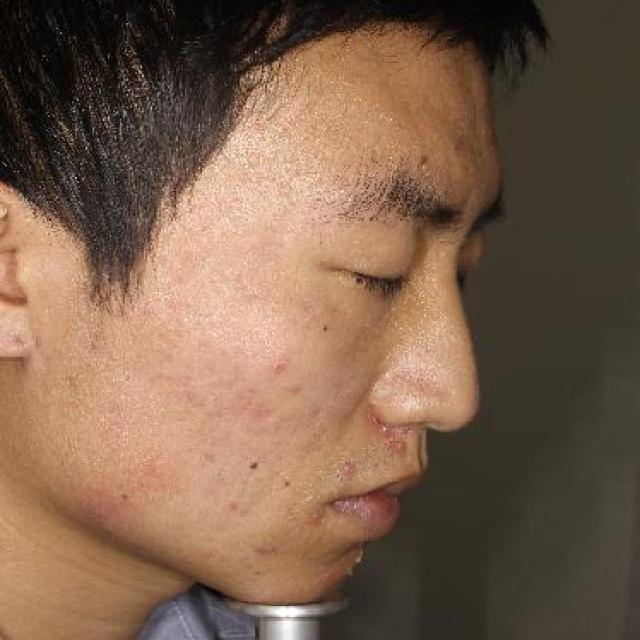acne: (310, 317, 338, 340), (412, 146, 434, 170), (114, 486, 138, 508), (394, 442, 416, 462), (244, 455, 264, 477), (338, 458, 358, 477), (376, 420, 394, 436), (351, 550, 363, 570), (197, 546, 214, 560)
